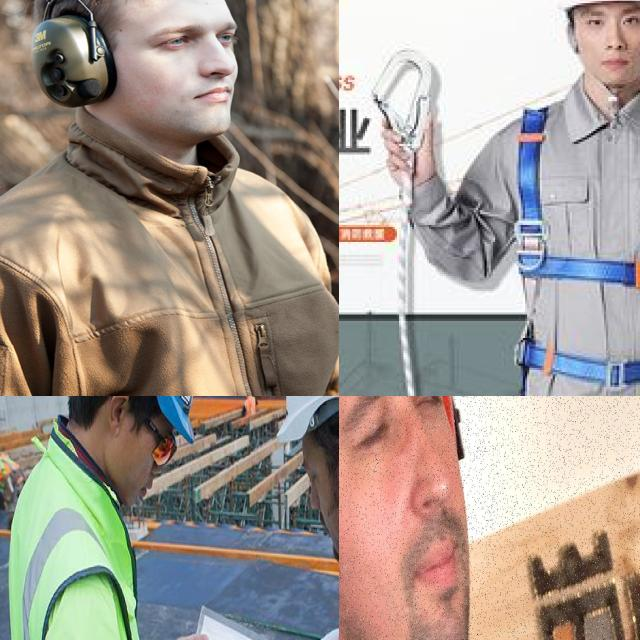Ear-protection: (29, 0, 254, 159)
Harness: (506, 97, 640, 396)
No_Ear-Protection: (103, 396, 129, 439)
No_Glasses: (126, 8, 254, 61), (582, 6, 640, 34)
face_nomask: (99, 396, 174, 517), (287, 444, 339, 570)
glasses: (149, 434, 180, 472)
head_helmet: (77, 396, 199, 440)
person: (339, 396, 576, 640), (0, 396, 207, 640), (269, 396, 339, 640)
vest: (7, 431, 153, 640)
